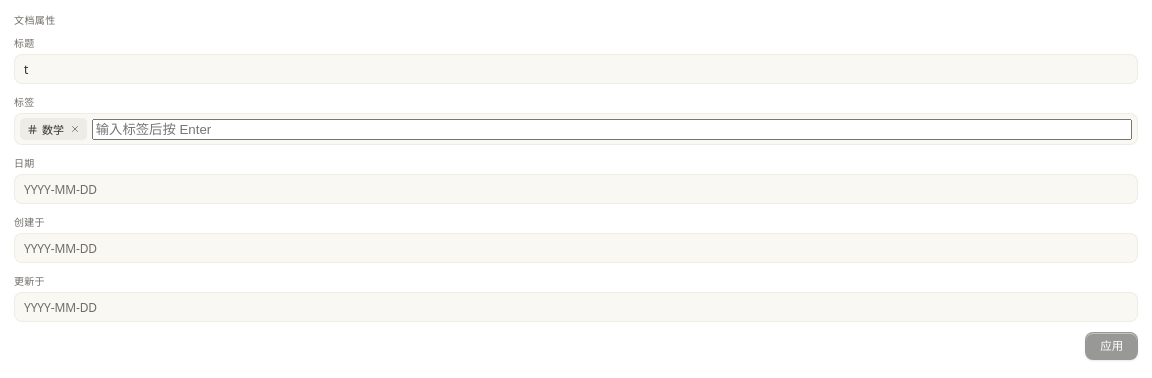
Test: FrontmatterPanel › uses the themed tag suggestion popup instead of a native datalist
The width and height of the screenshot is (1152, 378).
Click the dropdown with class "fm-tag-input". click: (612, 129)
box: top-left (92, 118), bottom-right (1132, 140)
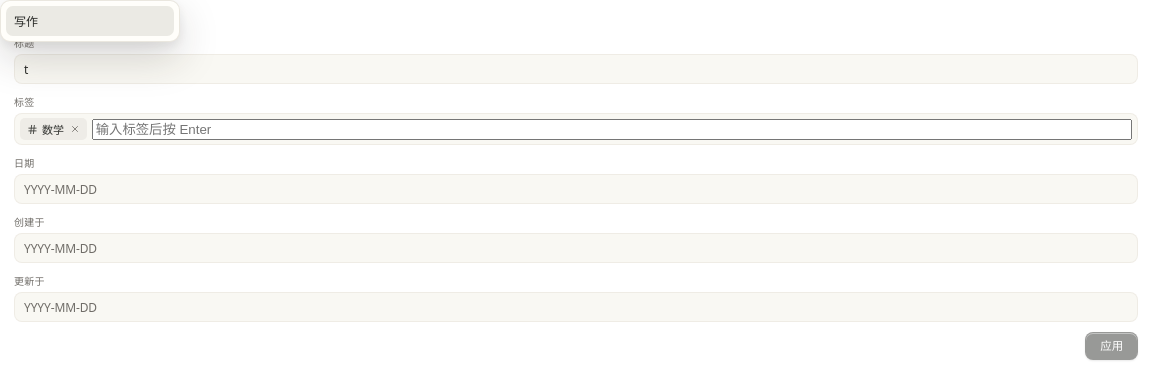
Now the option "写作" is shown
Click the option "写作". click: (90, 21)
box: top-left (6, 6), bottom-right (174, 36)
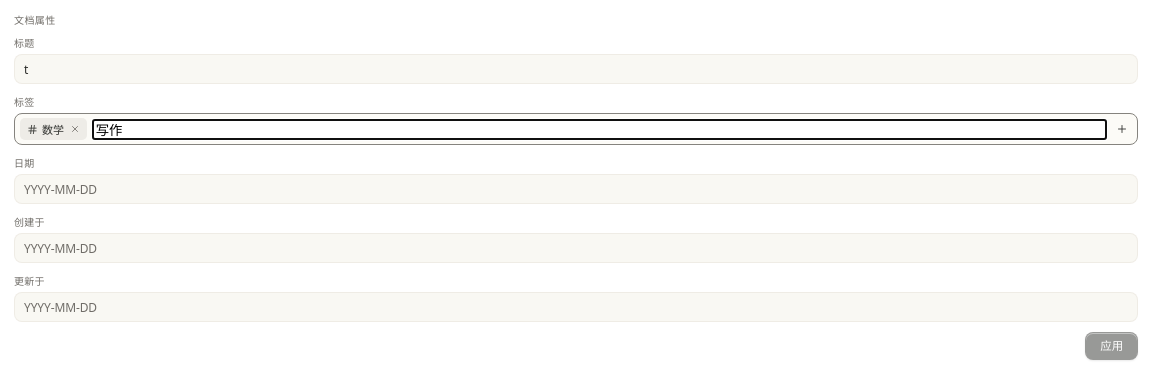
Now the dropdown with class "fm-tag-input" holds "写作", box top-left (92, 118), bottom-right (1107, 140)
